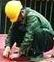boots: (9, 53, 26, 60), (0, 31, 6, 45)
hard-hat: (2, 0, 21, 22)
